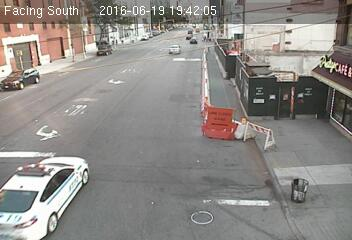neg: (30, 126, 63, 170), (256, 24, 285, 63), (177, 178, 206, 217), (234, 177, 263, 216), (32, 67, 60, 105), (320, 91, 346, 127), (289, 172, 313, 205), (160, 41, 184, 73), (135, 131, 159, 163), (225, 107, 248, 138), (97, 34, 120, 64), (109, 80, 132, 110), (78, 161, 99, 190), (192, 54, 213, 81), (267, 79, 287, 107)
